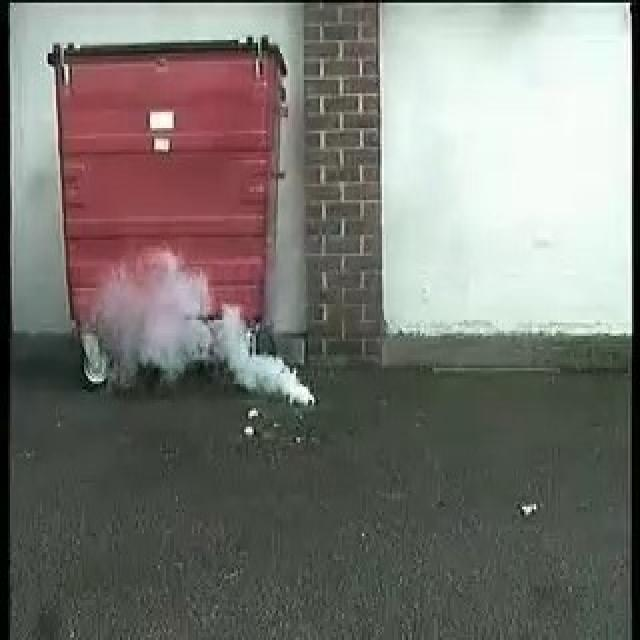smoke: (109, 251, 314, 408)
